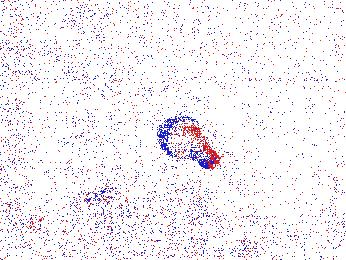flame jellyfish: (158, 114, 220, 169), (59, 191, 111, 241), (96, 187, 131, 227)
